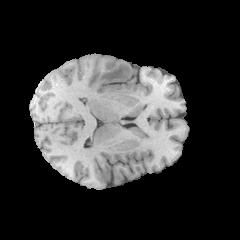glioma: (88, 62, 132, 116)
